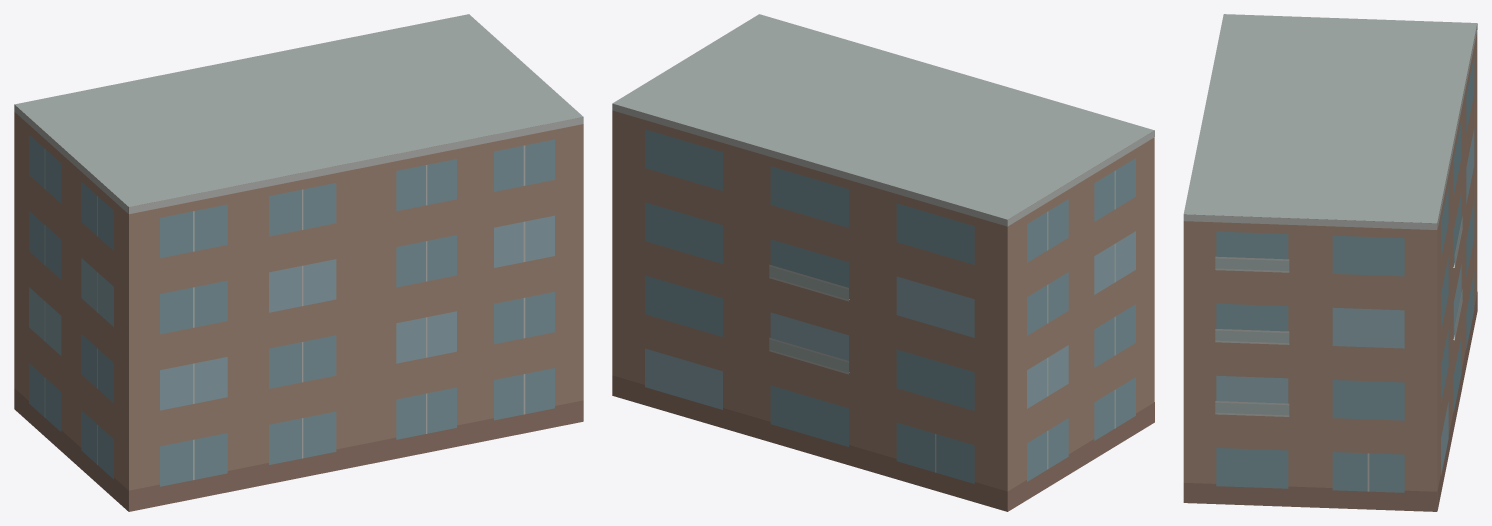
The model's file is survey-upis-32908741.glb.
The picture shows the model from 3 angles, left to right: view 1: azimuth 30°, elevation 25°; view 2: azimuth 150°, elevation 25°; view 3: azimuth 270°, elevation 25°; orthographic projection. The views are drawn at different scales.
Parts seen in each view (by area): view 1: survey-upis-32908741.tmp; view 2: survey-upis-32908741.tmp; view 3: survey-upis-32908741.tmp.
Part boxes in pixels (box(x1,y1,x2,y2)): survey-upis-32908741.tmp: box(14, 14, 583, 511); survey-upis-32908741.tmp: box(612, 14, 1154, 511); survey-upis-32908741.tmp: box(1183, 14, 1477, 511).
Bounding box in the file's own units: 16.19 × 10.4 × 9.61.
